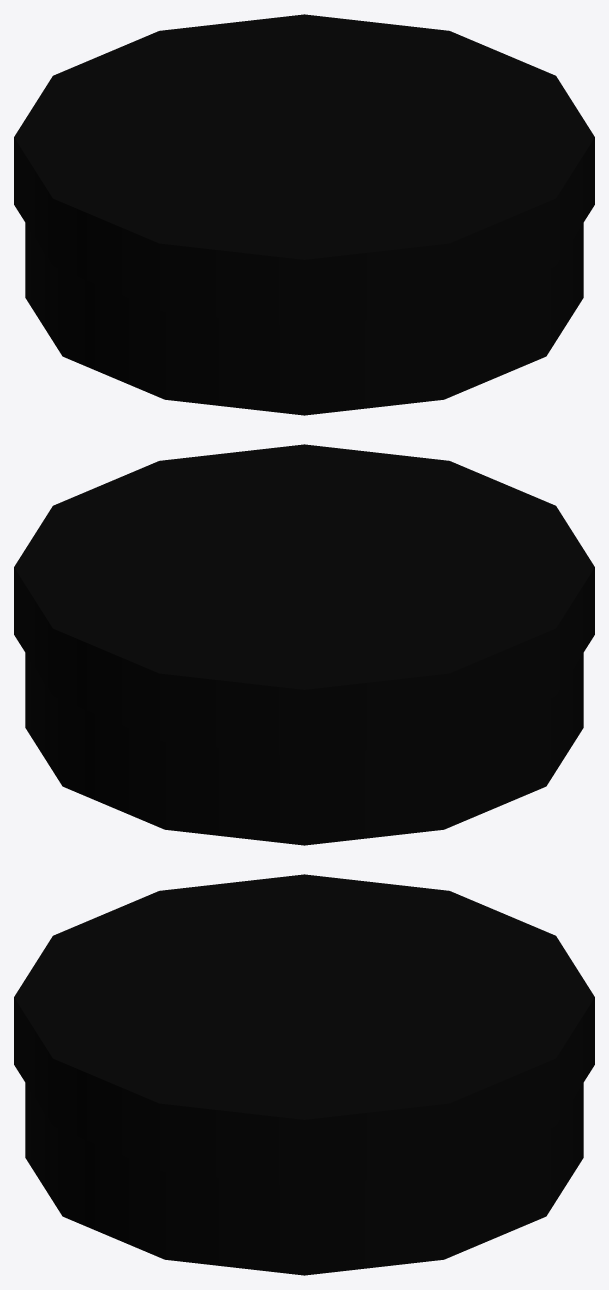
Rendered from ink_ribbon_tin.fbx.
3 views of the same model, one above another, from view 1: azimuth 30°, elevation 25°; view 2: azimuth 150°, elevation 25°; view 3: azimuth 270°, elevation 25° (orthographic).
Visible parts, largest first — view 1: ink_ribbon_tin_lid, ink_ribbon_tin; view 2: ink_ribbon_tin_lid, ink_ribbon_tin; view 3: ink_ribbon_tin_lid, ink_ribbon_tin.
Boxes of the visible parts, x1,y1,x2,y2 form: ink_ribbon_tin_lid: (14, 14, 594, 327); ink_ribbon_tin: (25, 223, 583, 415); ink_ribbon_tin_lid: (14, 444, 594, 757); ink_ribbon_tin: (25, 653, 583, 845); ink_ribbon_tin_lid: (14, 874, 594, 1187); ink_ribbon_tin: (25, 1083, 583, 1275).
Size of the model in its own units: 0.0624 by 0.019 by 0.0624.
